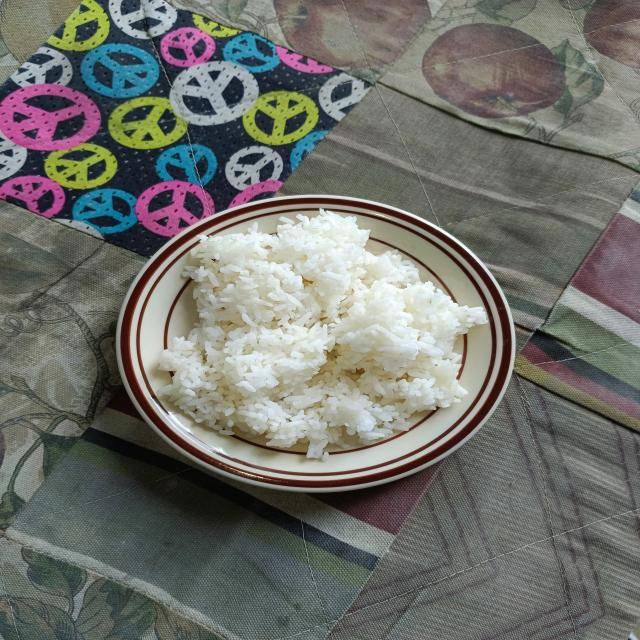Chicken -Chicken Inasal-: (190, 232, 446, 426)
